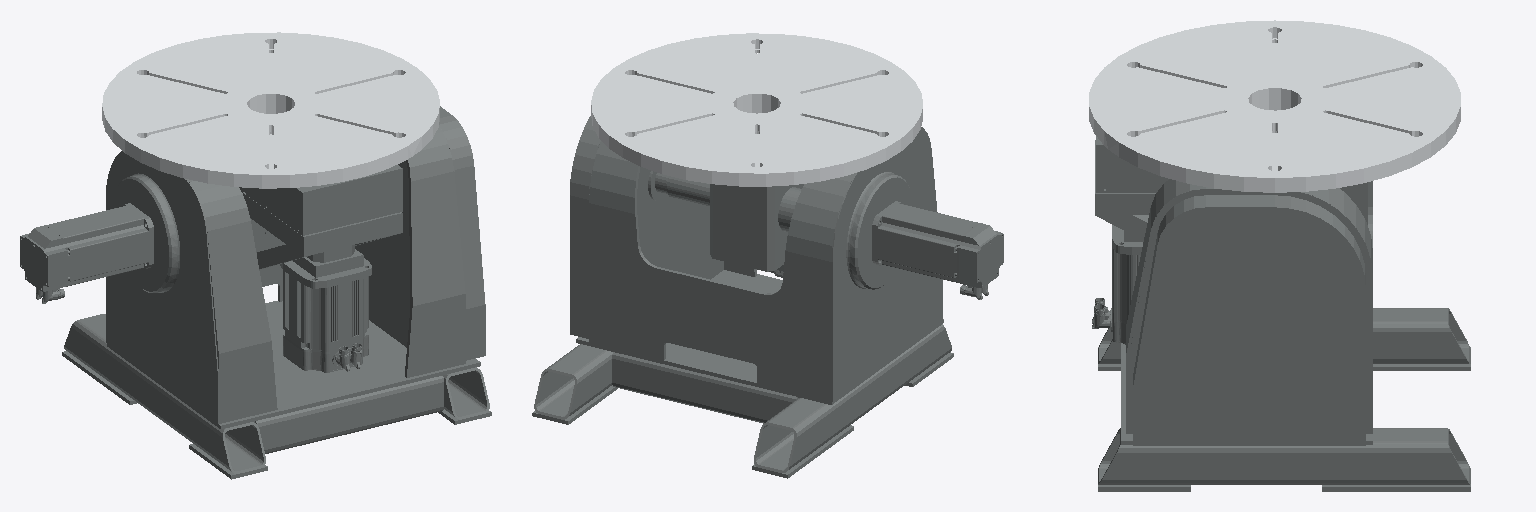
robot.urdf — ATPPZ350 变位机1.SLDASM:
<?xml version="1.0" encoding="utf-8"?>
<!-- This URDF was automatically created by SolidWorks to URDF Exporter! Originally created by Stephen Brawner (brawner@gmail.com) 
     Commit Version: 1.6.0-4-g7f85cfe  Build Version: 1.6.7995.38578
     For more information, please see http://wiki.ros.org/sw_urdf_exporter -->
<robot
  name="ATPPZ350 变位机1.SLDASM">
  <link
    name="base_link">
    <inertial>
      <origin
        xyz="-0.14271 0.038253 0.36511"
        rpy="0 0 0" />
      <mass
        value="40.204" />
      <inertia
        ixx="1.3066"
        ixy="2.6144E-05"
        ixz="-0.00044924"
        iyy="1.0651"
        iyz="0.036198"
        izz="1.3356" />
    </inertial>
    <visual>
      <origin
        xyz="0 0 0"
        rpy="0 0 0" />
      <geometry>
        <mesh
          filename="package://ATPPZ350/meshes/base_link.STL" />
      </geometry>
      <material
        name="">
        <color
          rgba="0.52549 0.5451 0.5451 1" />
      </material>
    </visual>
    <collision>
      <origin
        xyz="0 0 0"
        rpy="0 0 0" />
      <geometry>
        <mesh
          filename="package://ATPPZ350/meshes/base_link.STL" />
      </geometry>
    </collision>
  </link>
  <link
    name="Link1">
    <inertial>
      <origin
        xyz="-0.13352 -0.00092495 0.18356"
        rpy="0 0 0" />
      <mass
        value="22.916" />
      <inertia
        ixx="0.16721"
        ixy="0.0066504"
        ixz="-1.3975E-05"
        iyy="0.20801"
        iyz="2.0043E-05"
        izz="0.16343" />
    </inertial>
    <visual>
      <origin
        xyz="0 0 0"
        rpy="0 0 0" />
      <geometry>
        <mesh
          filename="package://ATPPZ350/meshes/Link1.STL" />
      </geometry>
      <material
        name="">
        <color
          rgba="0.52549 0.5451 0.5451 1" />
      </material>
    </visual>
    <collision>
      <origin
        xyz="0 0 0"
        rpy="0 0 0" />
      <geometry>
        <mesh
          filename="package://ATPPZ350/meshes/Link1.STL" />
      </geometry>
    </collision>
  </link>
  <joint
    name="joint1"
    type="revolute">
    <origin
      xyz="-0.2145 0.06 0.51"
      rpy="1.5708 0 1.5708" />
    <parent
      link="base_link" />
    <child
      link="Link1" />
    <axis
      xyz="0 0 -1" />
    <limit
      lower="-1.5708"
      upper="1.5708"
      effort="0"
      velocity="0" />
  </joint>
  <link
    name="Link2">
    <inertial>
      <origin
        xyz="-1.4572E-16 -1.3384E-16 0.0324"
        rpy="0 0 0" />
      <mass
        value="19.646" />
      <inertia
        ixx="0.73141"
        ixy="-1.03E-15"
        ixz="-5.288E-16"
        iyy="0.73141"
        iyz="-2.6089E-15"
        izz="1.3811" />
    </inertial>
    <visual>
      <origin
        xyz="0 0 0"
        rpy="0 0 0" />
      <geometry>
        <mesh
          filename="package://ATPPZ350/meshes/Link2.STL" />
      </geometry>
      <material
        name="">
        <color
          rgba="0.89804 0.91373 0.92549 1" />
      </material>
    </visual>
    <collision>
      <origin
        xyz="0 0 0"
        rpy="0 0 0" />
      <geometry>
        <mesh
          filename="package://ATPPZ350/meshes/Link2.STL" />
      </geometry>
    </collision>
  </link>
  <joint
    name="joint2"
    type="continuous">
    <origin
      xyz="0 0.26 0.1875"
      rpy="1.5708 -1.5708 0" />
    <parent
      link="Link1" />
    <child
      link="Link2" />
    <axis
      xyz="0 0 1" />
    <limit
      lower="-6.2832"
      upper="6.2832"
      effort="0"
      velocity="0" />
  </joint>
</robot>

--- Render facts (derived) ---
Views: 3 orthographic renders of the robot side by side, from view 1: azimuth 30°, elevation 25°; view 2: azimuth 150°, elevation 25°; view 3: azimuth 270°, elevation 25°.
Model ATPPZ350 变位机1.SLDASM with 3 links and 2 joints (1 revolute, 1 continuous), rooted at base_link, posed every joint at zero.
Links seen in each view (by area): view 1: base_link, Link2, Link1; view 2: base_link, Link2, Link1; view 3: base_link, Link2, Link1.
Boxes of the visible links, x1=… form: base_link: x1=20, y1=106, x2=491, y2=479; Link2: x1=102, y1=32, x2=439, y2=188; Link1: x1=239, y1=165, x2=402, y2=372; base_link: x1=532, y1=116, x2=1003, y2=478; Link2: x1=591, y1=33, x2=922, y2=186; Link1: x1=667, y1=176, x2=803, y2=277; base_link: x1=1098, y1=179, x2=1470, y2=491; Link2: x1=1089, y1=20, x2=1460, y2=192; Link1: x1=1092, y1=136, x2=1168, y2=344.
Size in the robot's own frame: 1.06 by 0.8186 by 0.75 metres.
Meshes: 3 distinct files referenced, 3 mesh visuals loaded (3 binary STL).
